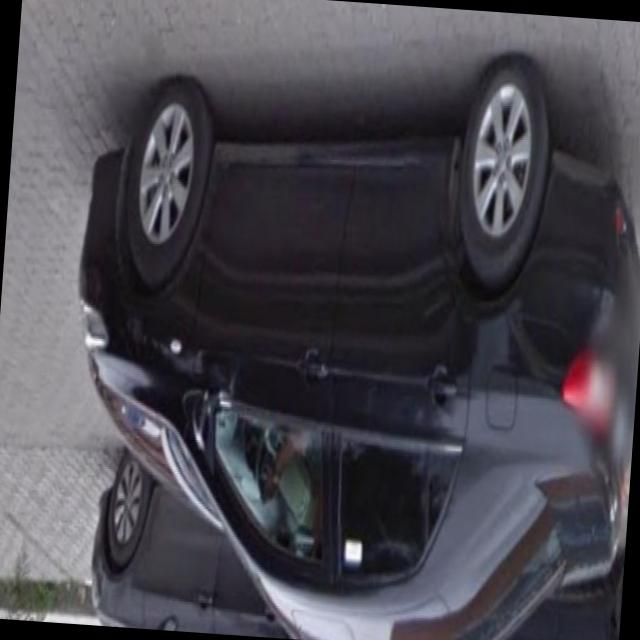car: (49, 3, 640, 640)
